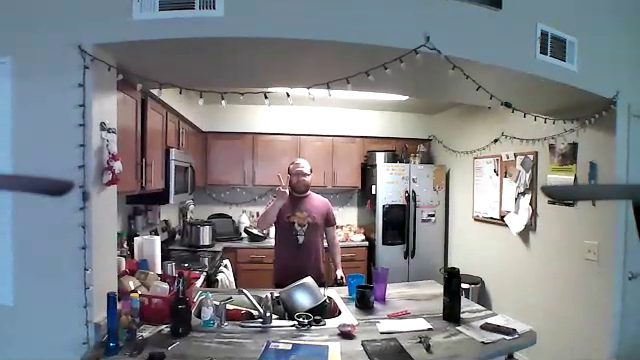peace: (267, 170, 294, 206)
